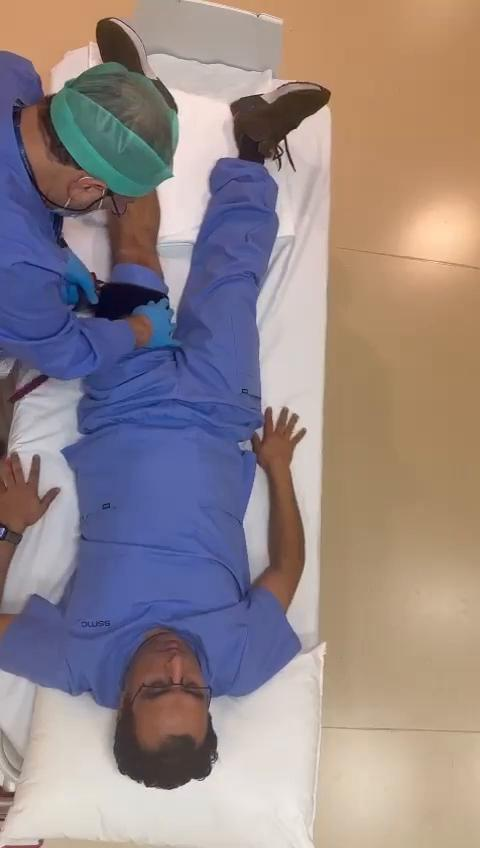patient: (44, 85, 329, 786)
tourniquet: (93, 281, 166, 318)
